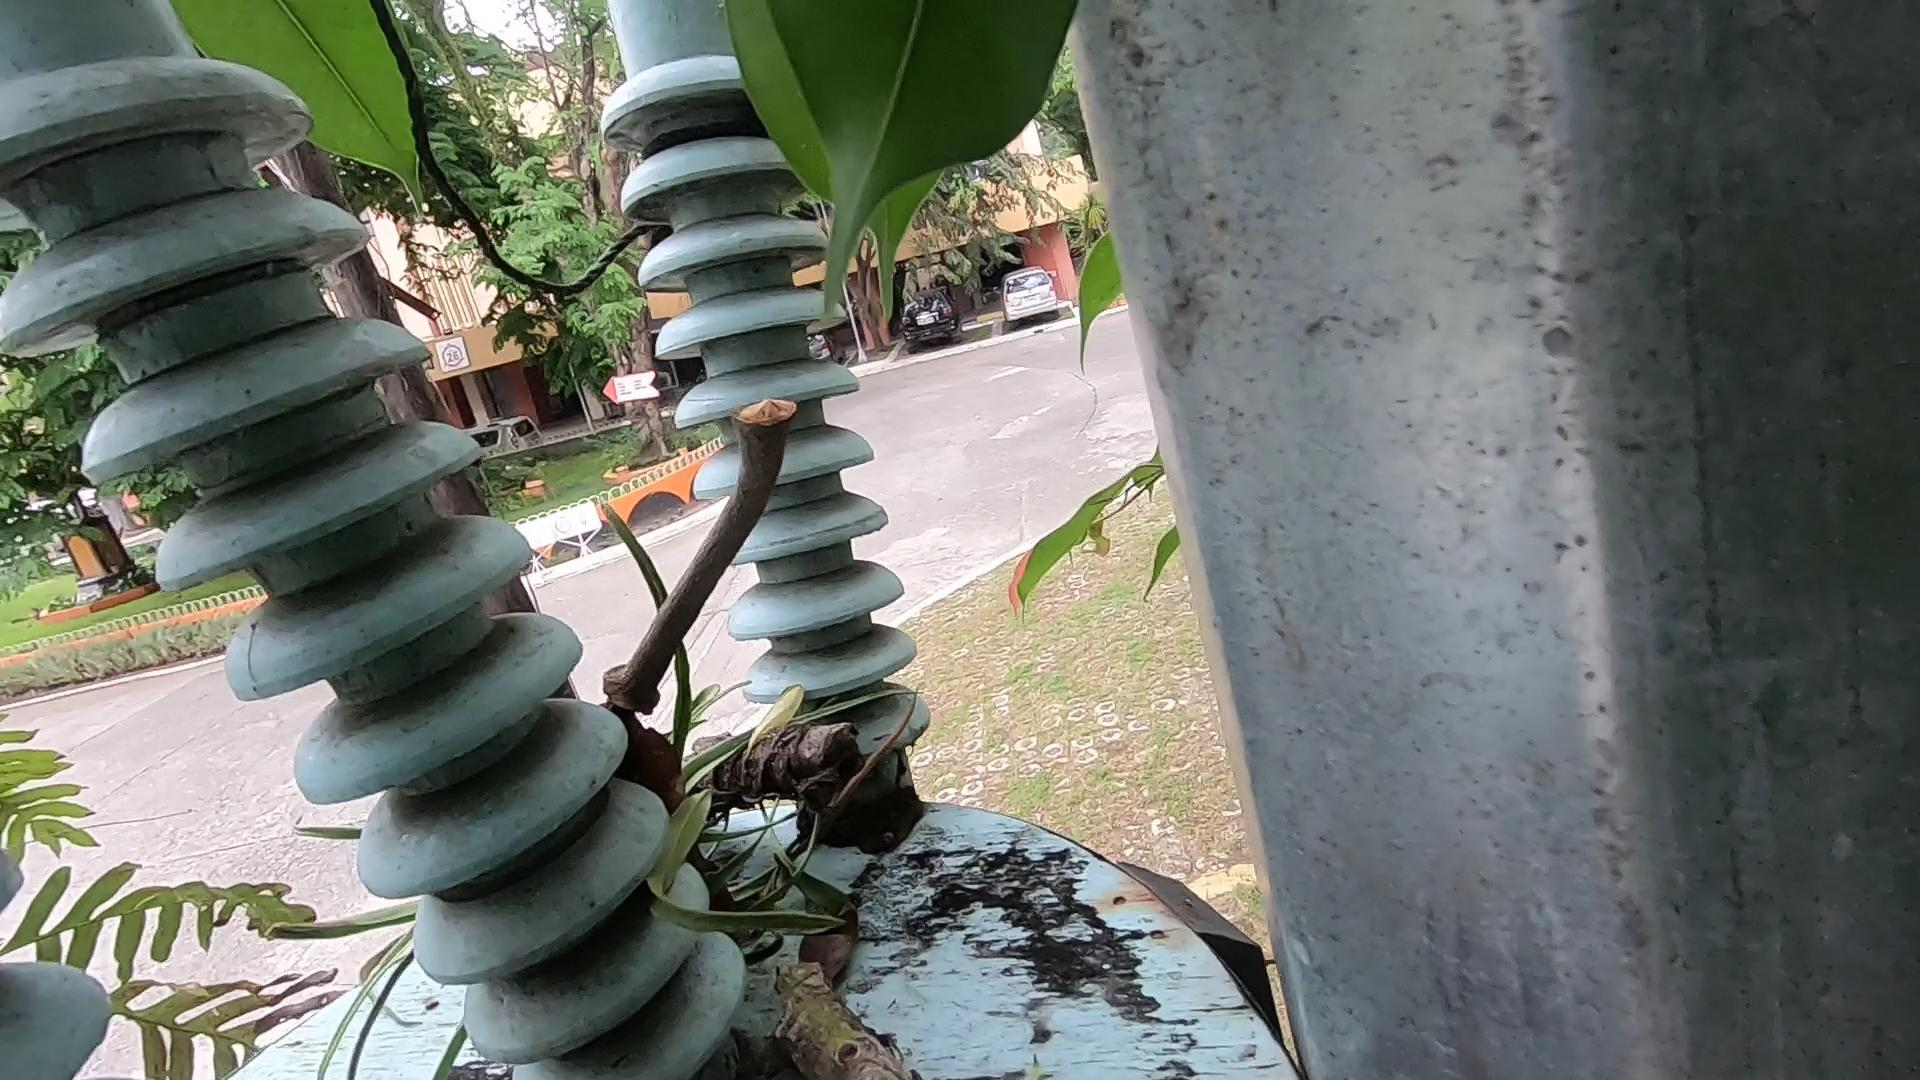branch with leaves: (622, 582, 1004, 1080)
tree branch: (579, 363, 795, 735)
